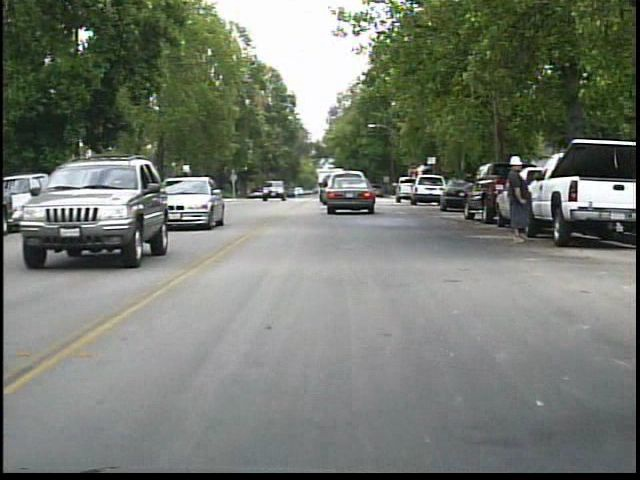person: (500, 151, 534, 245)
